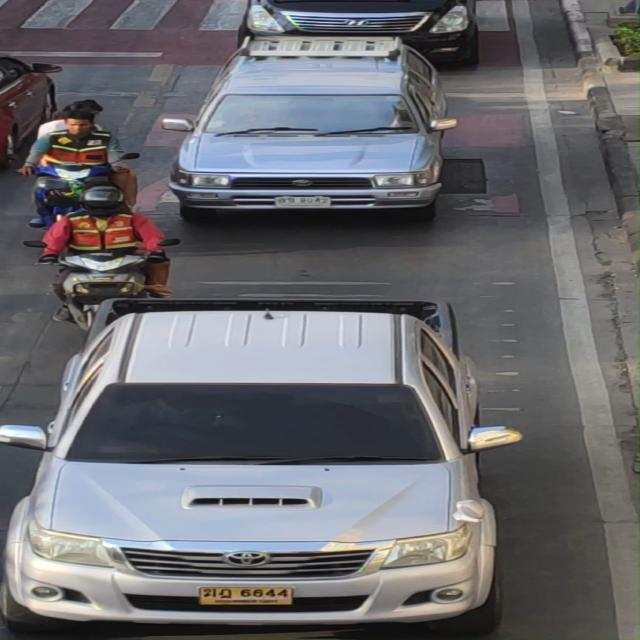car: (0, 285, 540, 629), (172, 28, 476, 235)
